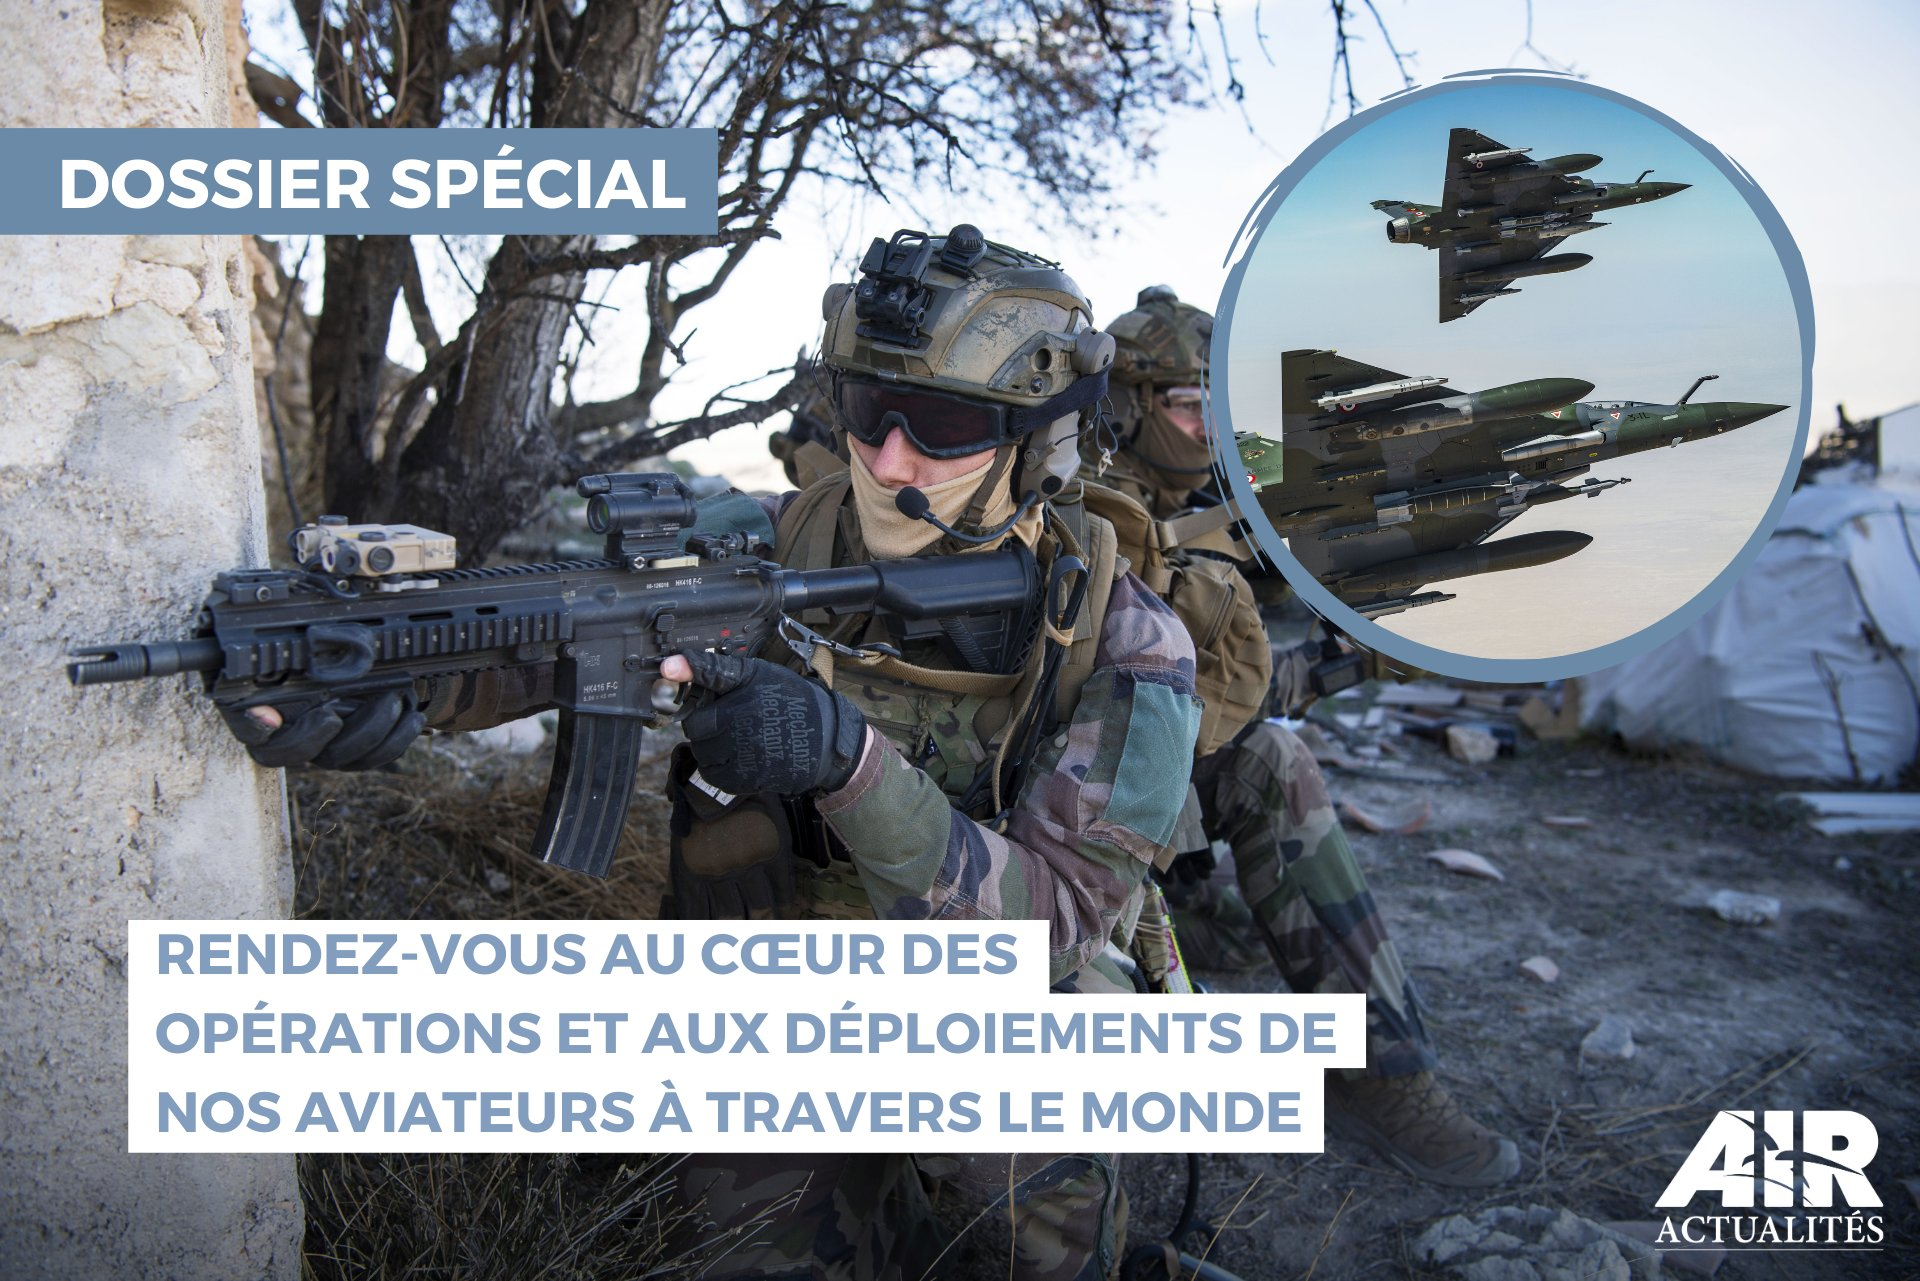Mirage2000: (1232, 347, 1791, 620), (1368, 127, 1694, 325)
